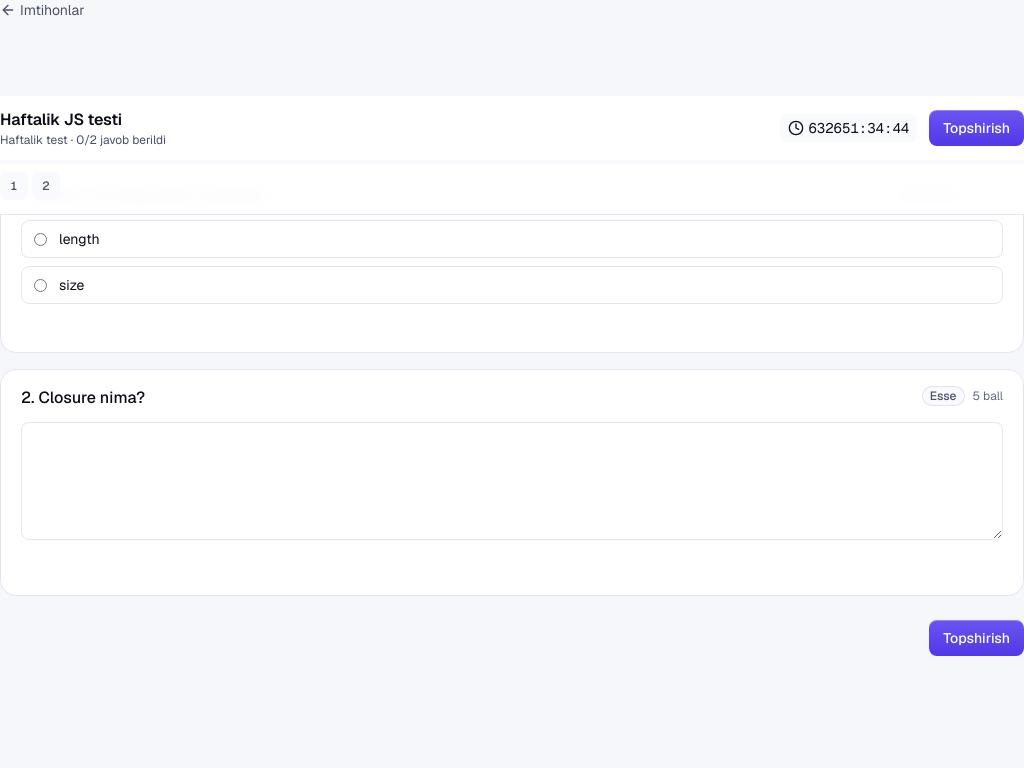
PortalAttemptPage › topshirishdan oldin javobsiz savollar haqida ogohlantiradi va tasdiqlangach yuboradi
The image size is (1024, 768).
Click the button "Topshirish" next to "632651:34:44". click: coordinates (977, 128)
box: x1=929 y1=110 x2=1023 y2=146
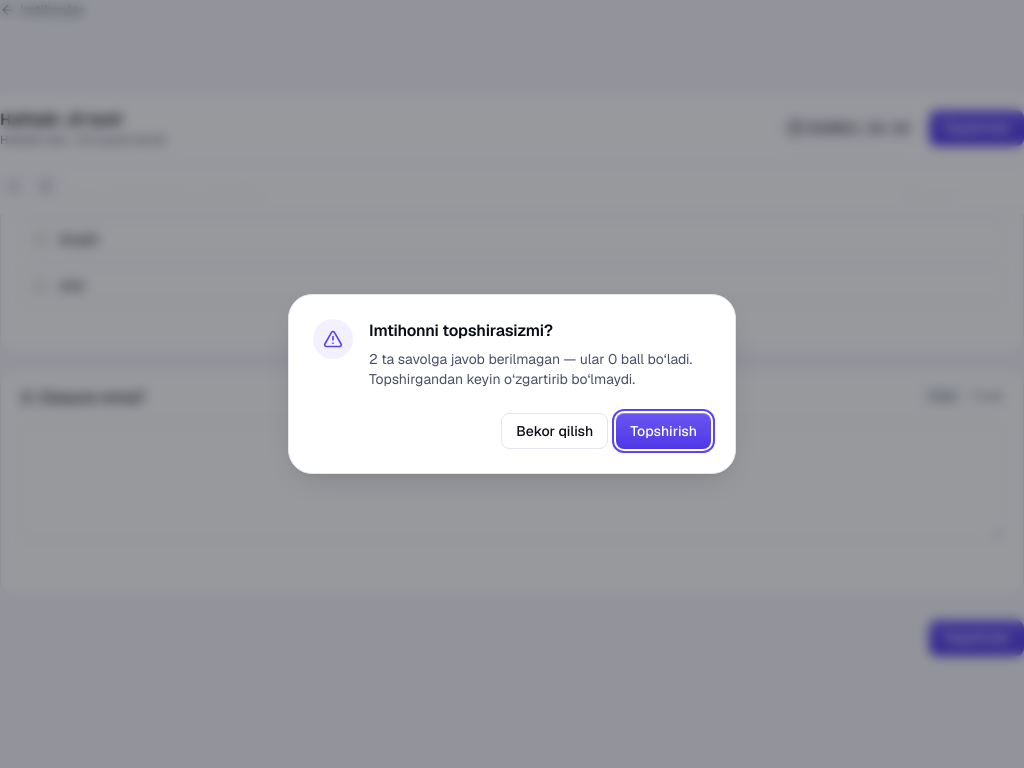
Expected: the text "2 ta savolga javob berilmagan" is shown, x1=369 y1=350 x2=692 y2=388
Click the button "Topshirish". click: coordinates (664, 431)
box: x1=616 y1=413 x2=711 y2=449
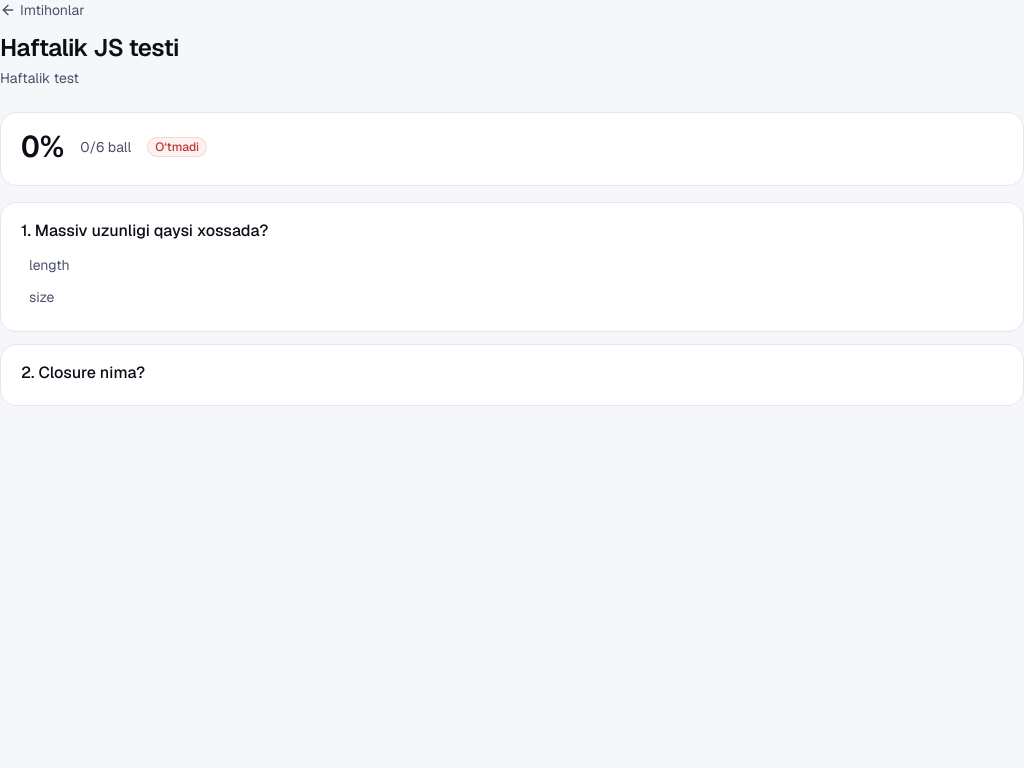
Expected: the text "O‘tmadi" is shown, x1=147 y1=137 x2=207 y2=157
